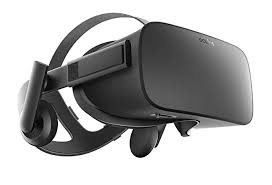oculus: (71, 20, 262, 136)
